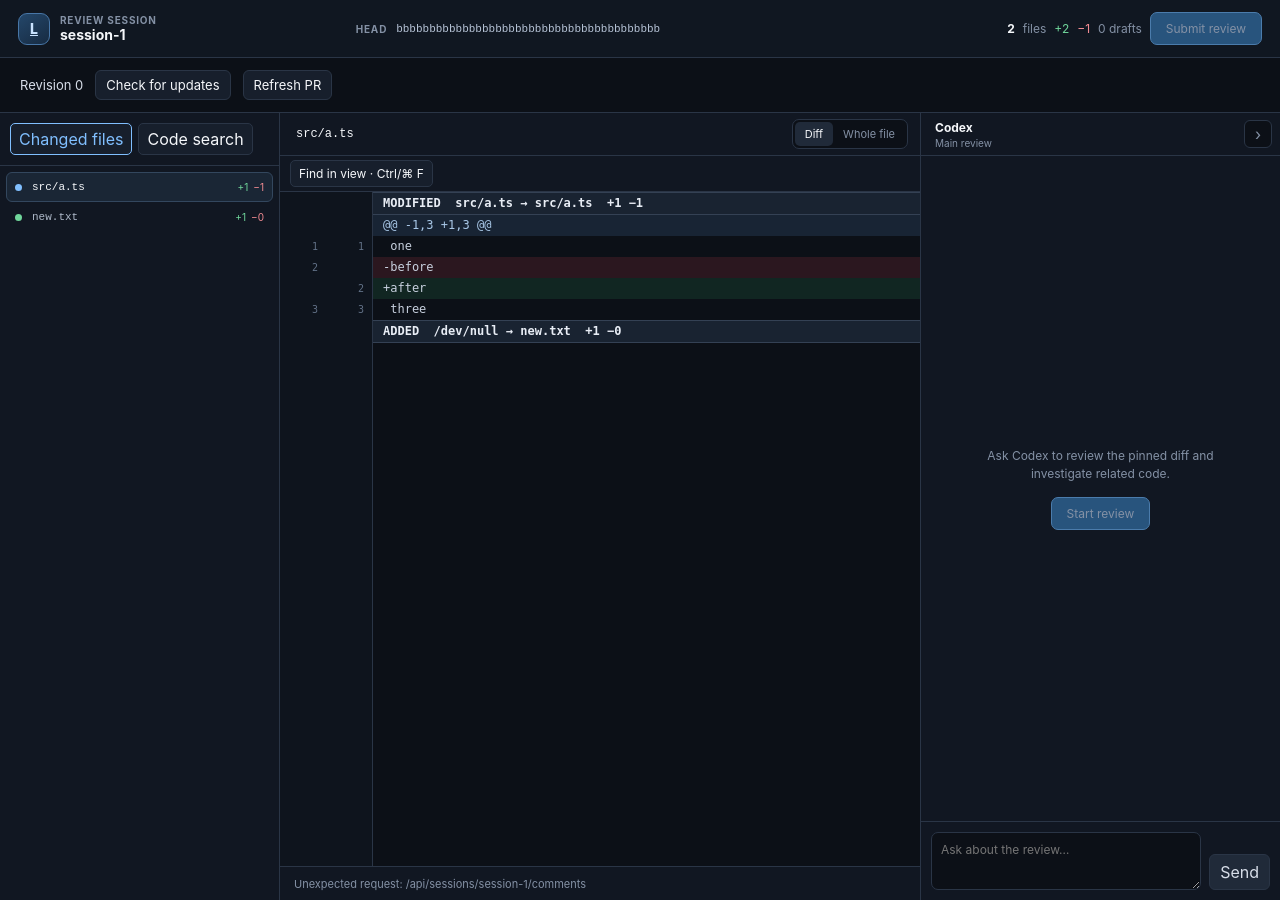
it: ReviewPage › starts the review explicitly and collapses tool activity with the chat panel
The image size is (1280, 900).
Click the button "Start review": [1100, 514] box [1051,497,1150,530]
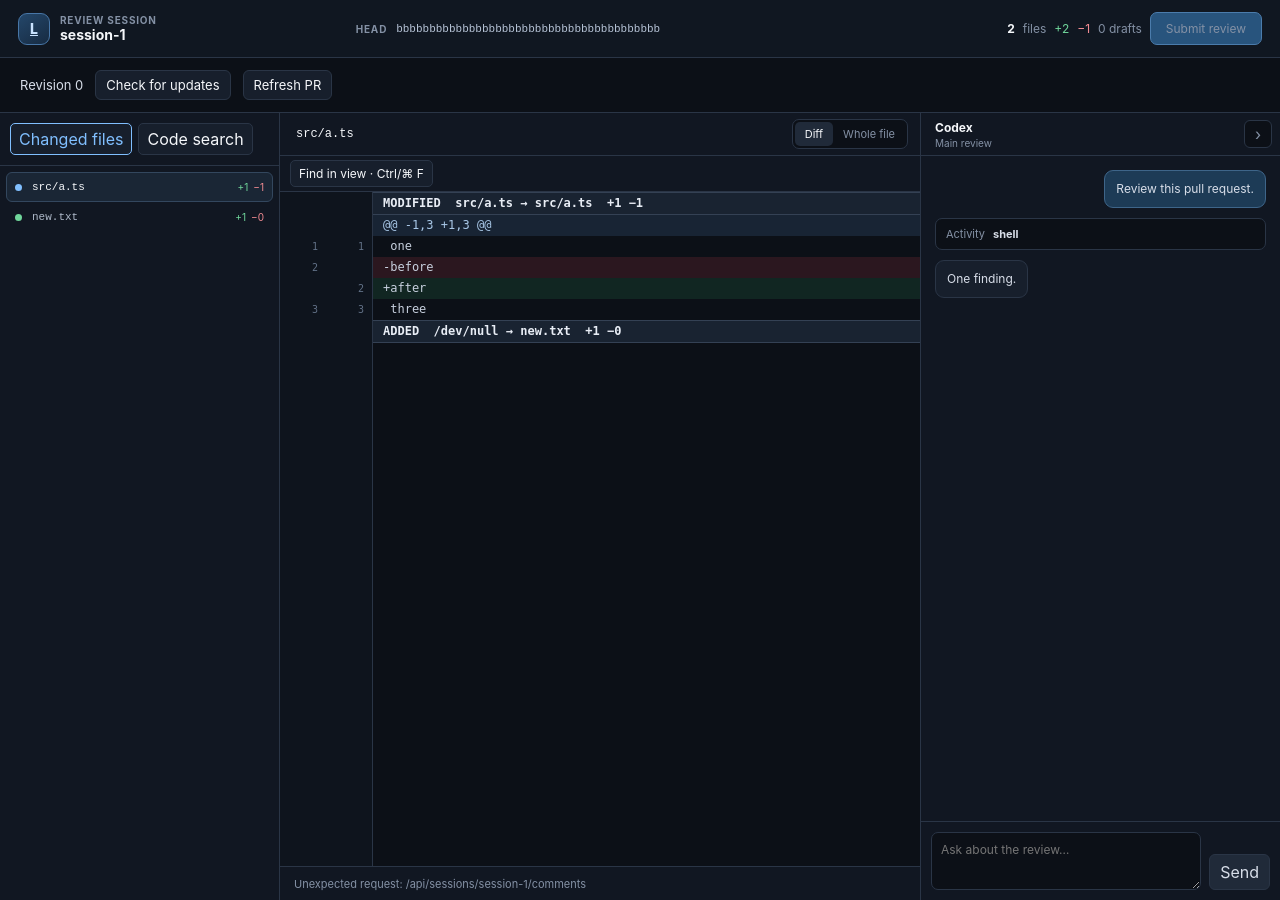
Check: the text "One finding." is shown, box [935,260,1028,298]
Click the button named "Collapse chat": [1258, 134] box [1244,120,1272,148]
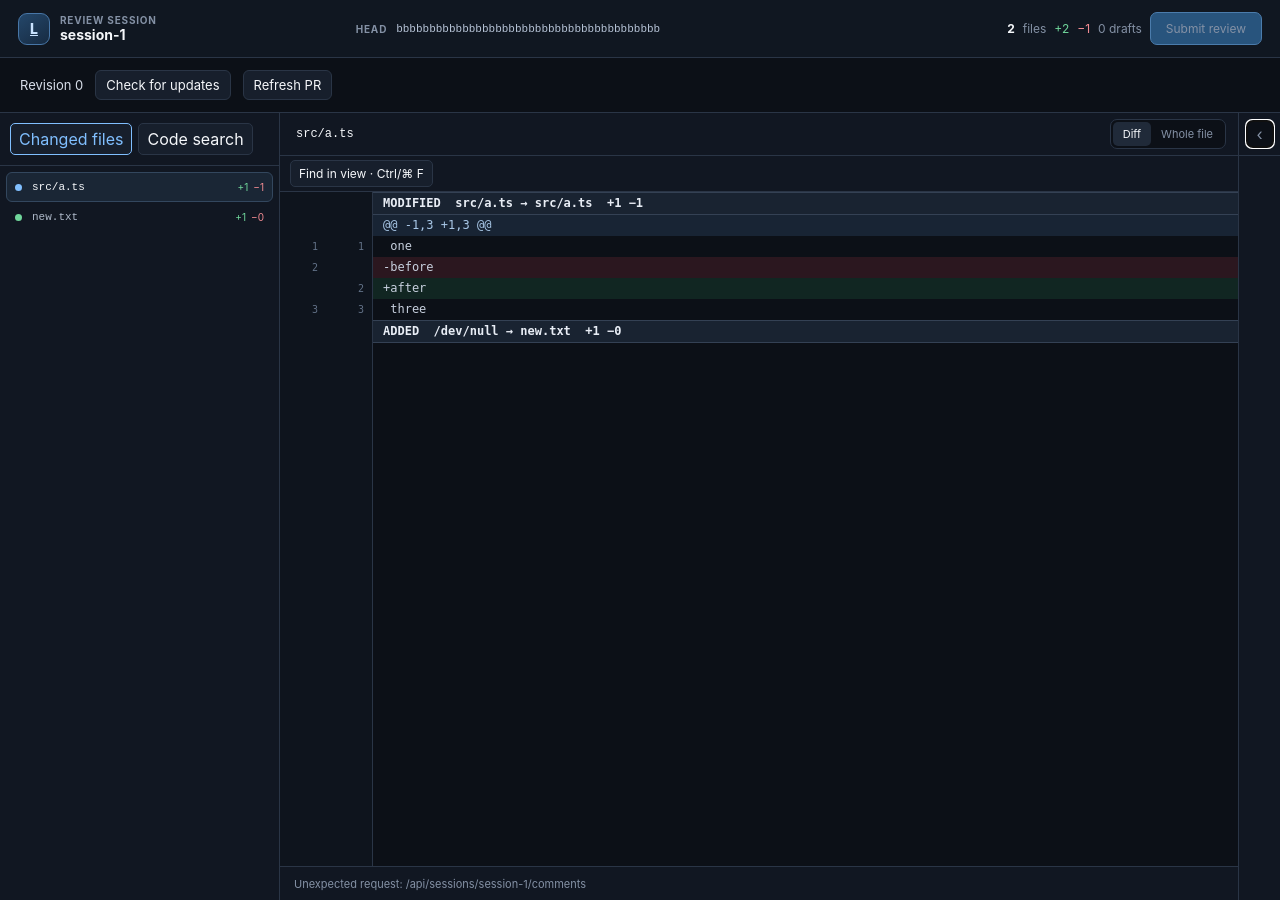
Check: the button named "Open chat" is shown, box [1246,120,1274,148]
